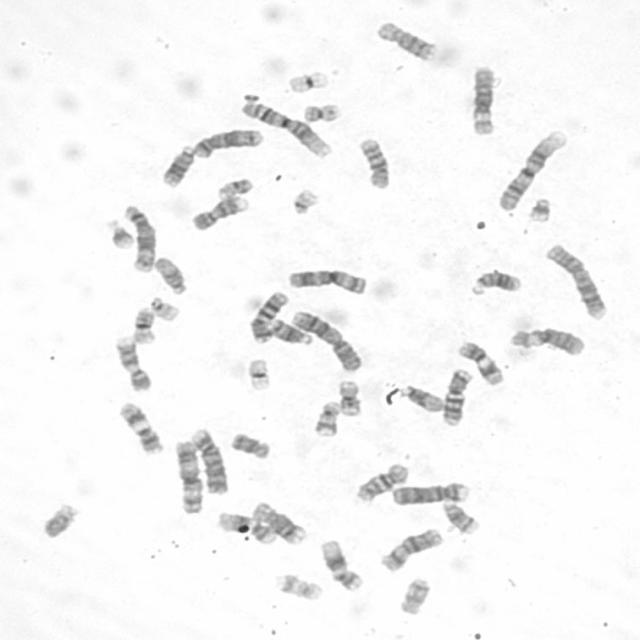A1: (497, 130, 569, 212), (240, 101, 334, 160)
A2: (544, 244, 611, 322), (290, 309, 364, 374)
A3: (287, 268, 370, 298), (173, 439, 205, 514)
B4: (190, 426, 230, 496), (392, 482, 470, 506)
B5: (121, 204, 159, 272), (193, 128, 265, 158)
C10: (354, 461, 410, 504), (357, 136, 391, 190)
C11: (453, 338, 506, 387), (120, 402, 166, 458)
C12: (316, 537, 365, 593), (215, 512, 278, 545)
C6: (504, 325, 588, 358), (473, 65, 498, 137)
C7: (247, 291, 290, 345), (438, 367, 476, 428)
C8: (375, 19, 441, 62), (249, 500, 309, 546)
C9: (112, 334, 154, 393), (192, 196, 252, 231)
D13: (466, 266, 526, 304), (161, 144, 195, 187)
D14: (265, 316, 316, 347), (441, 499, 481, 536)
D15: (397, 382, 445, 415), (152, 256, 190, 296)
E16: (130, 305, 158, 345), (338, 380, 363, 418)
E17: (271, 572, 325, 602), (311, 402, 340, 438)
E18: (395, 576, 437, 616), (228, 430, 275, 460)
F19: (240, 357, 278, 392), (288, 69, 332, 94)
F20: (218, 178, 256, 201), (303, 104, 340, 123)
G21: (106, 218, 134, 250), (527, 197, 552, 222)
G22: (146, 296, 182, 323), (293, 185, 318, 216)
X: (375, 526, 447, 573)
Y: (40, 499, 84, 540)
